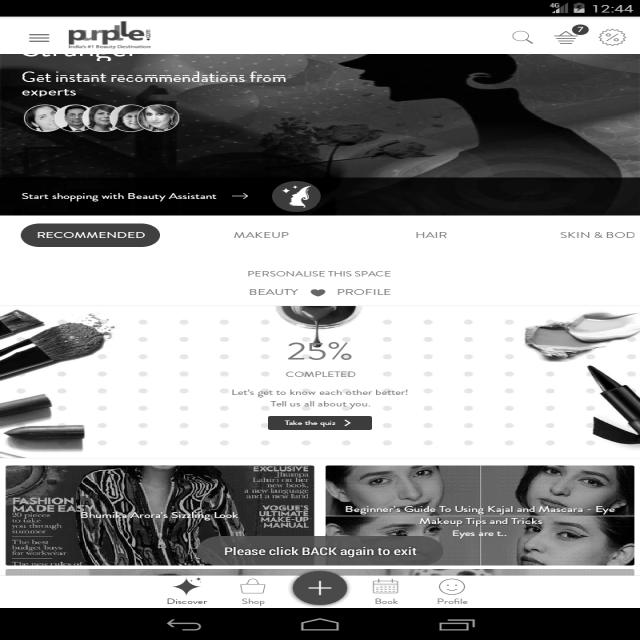ImageButton: (292, 572, 350, 604), (429, 575, 474, 607), (233, 577, 276, 609), (165, 575, 210, 605), (366, 576, 406, 607), (550, 27, 583, 49), (593, 28, 628, 48), (508, 27, 538, 47), (22, 29, 53, 46)
ImageView: (305, 58, 629, 174), (0, 306, 219, 454), (467, 308, 639, 447), (4, 464, 315, 536), (330, 466, 630, 536), (19, 100, 187, 134), (59, 19, 168, 51), (262, 181, 328, 211)
TextView: (19, 68, 292, 86), (226, 386, 419, 410), (19, 191, 222, 205), (240, 266, 397, 282), (35, 230, 148, 242), (554, 227, 638, 242), (279, 367, 364, 381), (230, 225, 298, 242), (337, 286, 398, 298), (411, 227, 462, 241), (242, 286, 300, 297), (19, 90, 77, 96)
